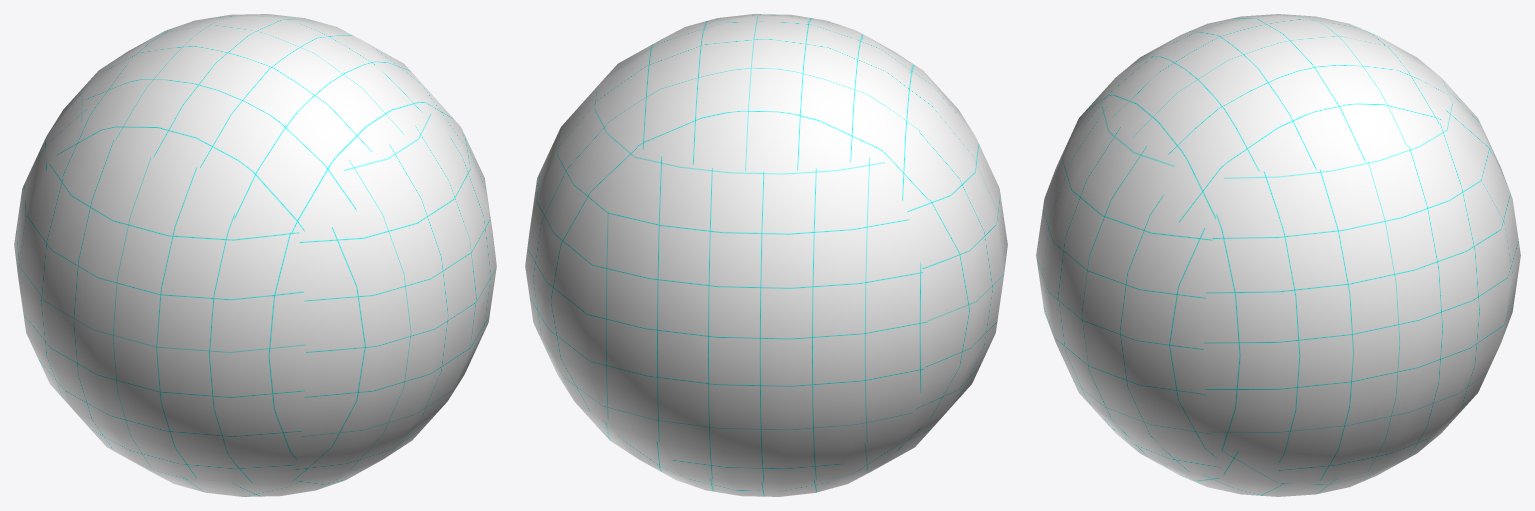
File: esfera_interna.obj
3 views of the same model, side by side, from view 1: azimuth 30°, elevation 25°; view 2: azimuth 150°, elevation 25°; view 3: azimuth 270°, elevation 25° (orthographic).
Visible parts, largest first — view 1: Sphere.002; view 2: Sphere.002; view 3: Sphere.002.
Boxes of the visible parts, x1=… form: Sphere.002: x1=14, y1=14, x2=496, y2=496; Sphere.002: x1=525, y1=14, x2=1007, y2=496; Sphere.002: x1=1036, y1=14, x2=1520, y2=496.
Bounding box in the file's own units: 17.77 × 17.77 × 17.77.
